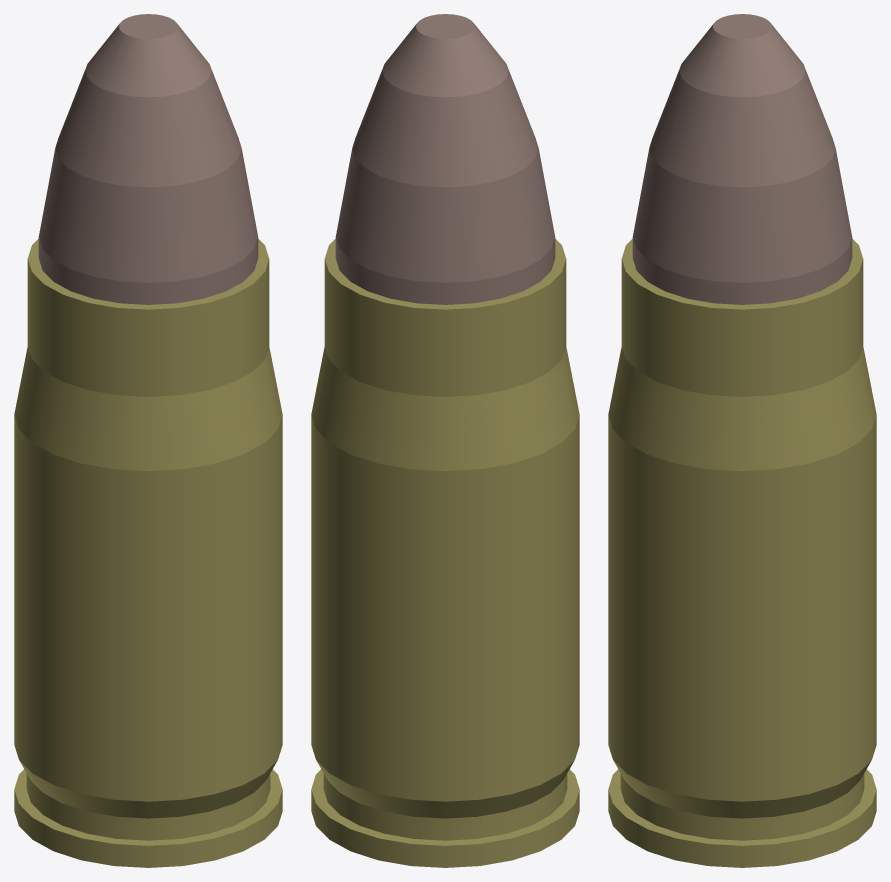
File: ammo_sniper.glb
The picture shows the model from 3 angles, left to right: view 1: azimuth 30°, elevation 25°; view 2: azimuth 150°, elevation 25°; view 3: azimuth 270°, elevation 25°; orthographic projection.
Visible parts, largest first — view 1: ammo_sniper; view 2: ammo_sniper; view 3: ammo_sniper.
Boxes of the visible parts, box(x1,y1,x2,y2) form: ammo_sniper: box(14, 14, 282, 867); ammo_sniper: box(311, 14, 579, 867); ammo_sniper: box(608, 14, 876, 867).
Bounding box in the file's own units: 0.0066 × 0.0213 × 0.0066.
